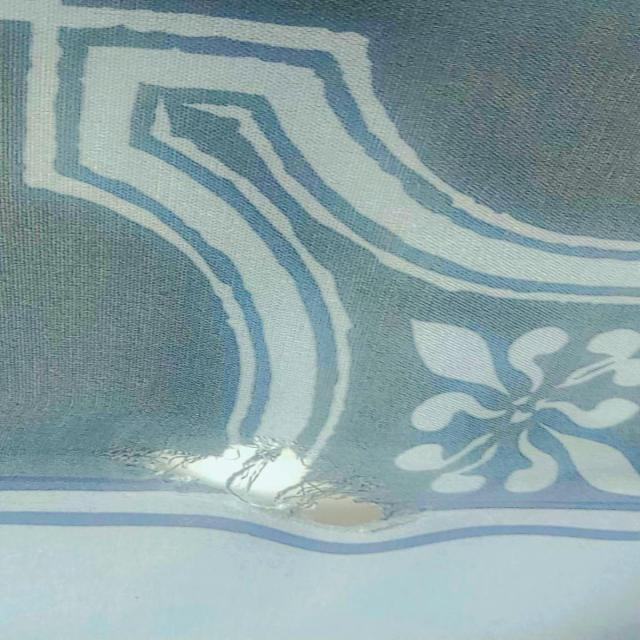cut: (119, 430, 443, 538)
